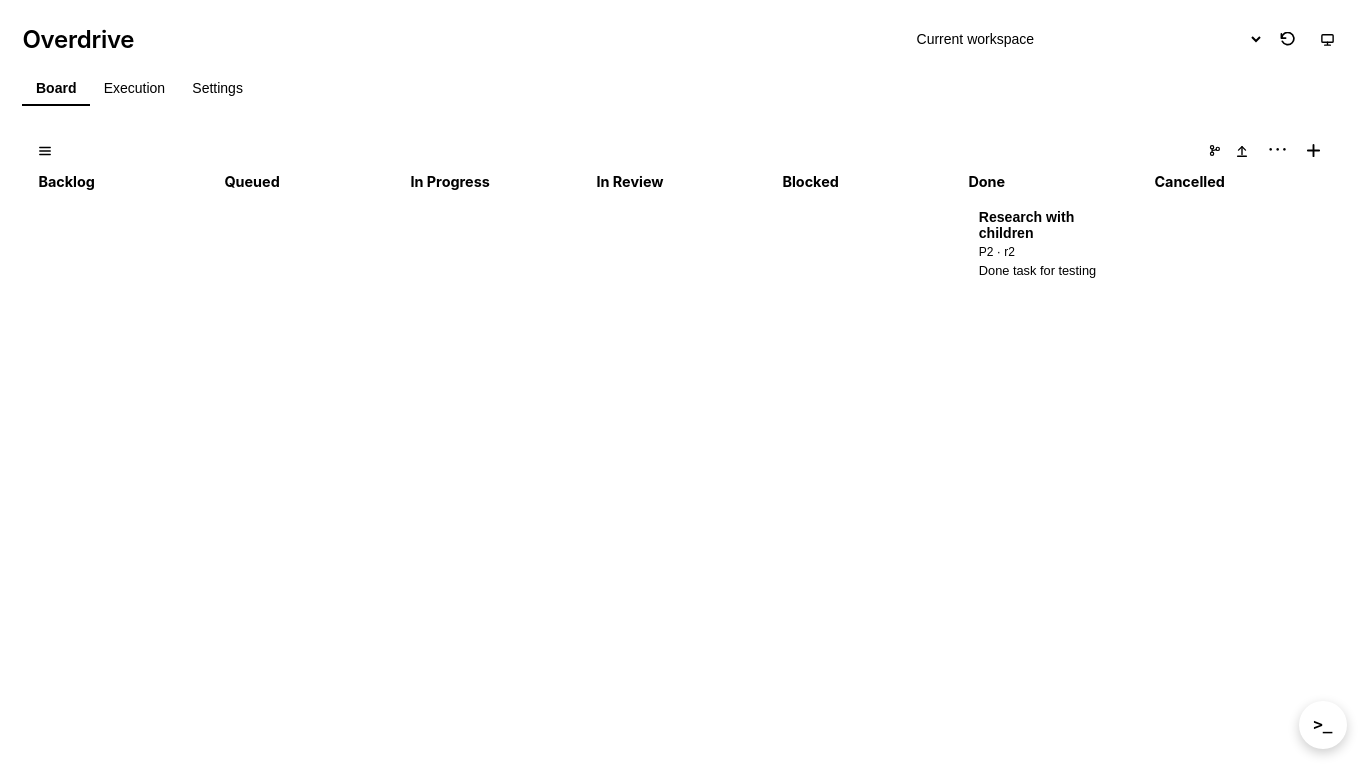
Test: Generate Follow-Up Tasks › hides Generate Follow-Up Tasks button when task already has children
Click the text "Research with children" at (1027, 225), box [979,209,1074,241]
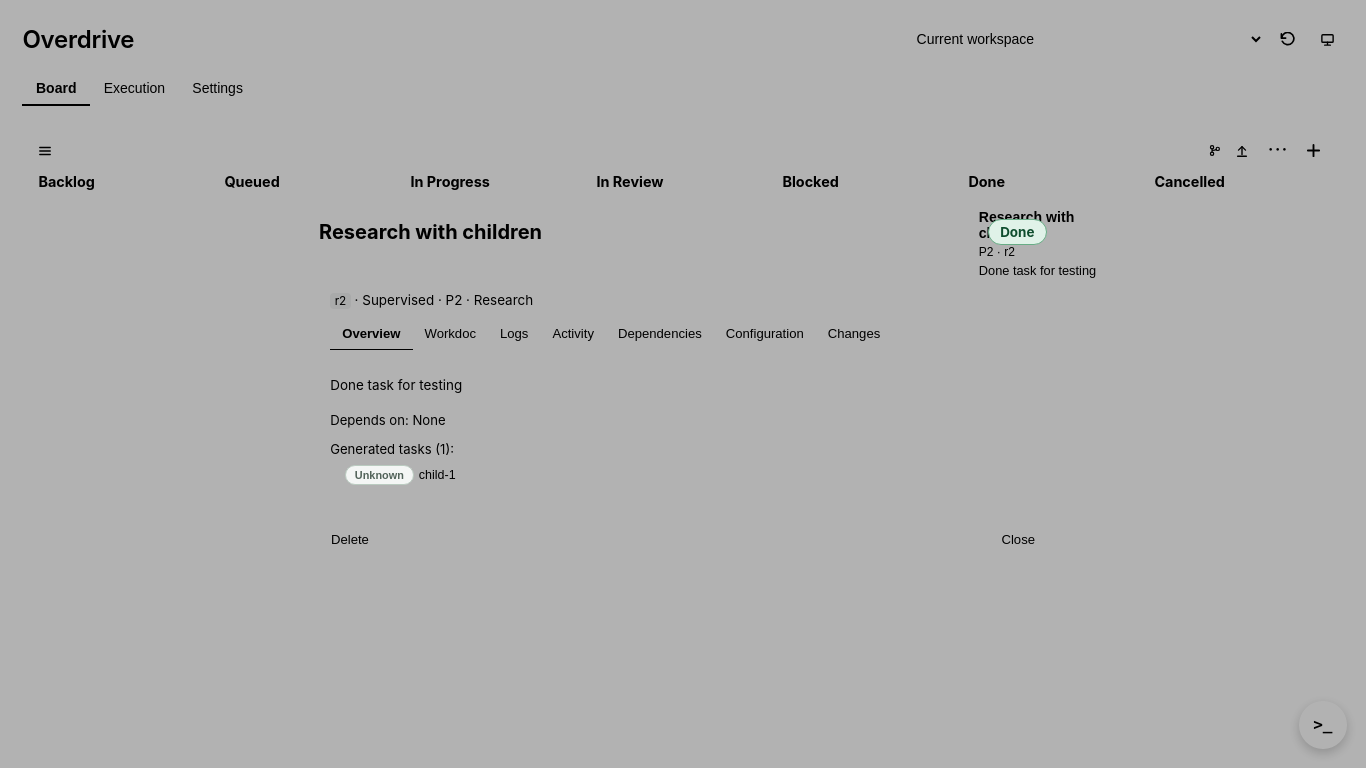
Expected: the button "Delete" is shown, [319,526,381,555]
